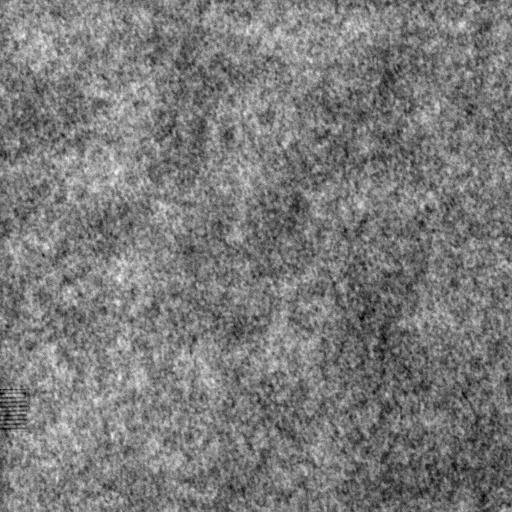impact: (1, 385, 31, 434)
